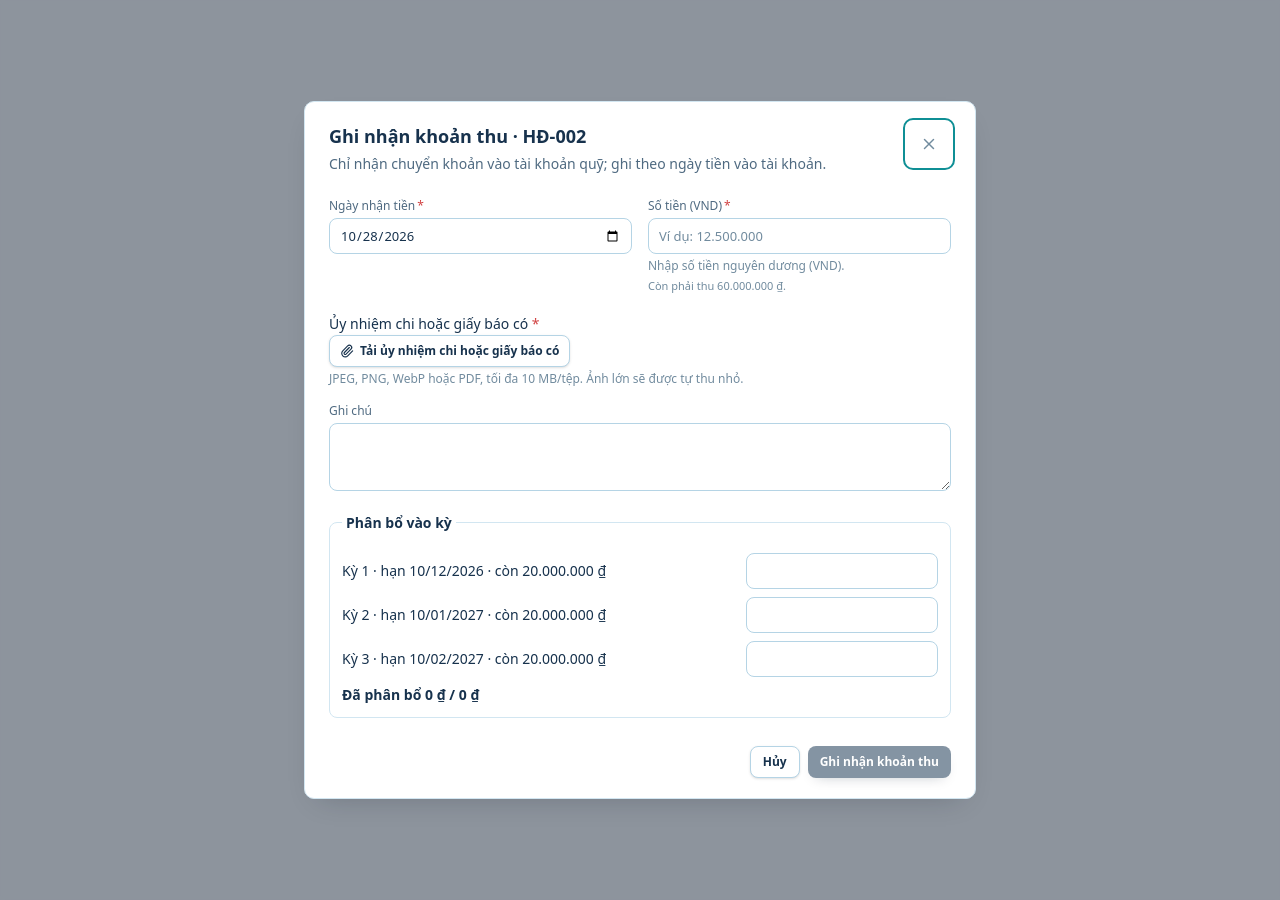
Test case: F-S3 components › spreads a receipt earliest due first and flags an edited period that gets too much (AC-F3.8)
The width and height of the screenshot is (1280, 900).
Type "30.000.000" into the field labelled "Số tiền (VND)*" at (800, 236), box left=648, top=218, right=951, bottom=254
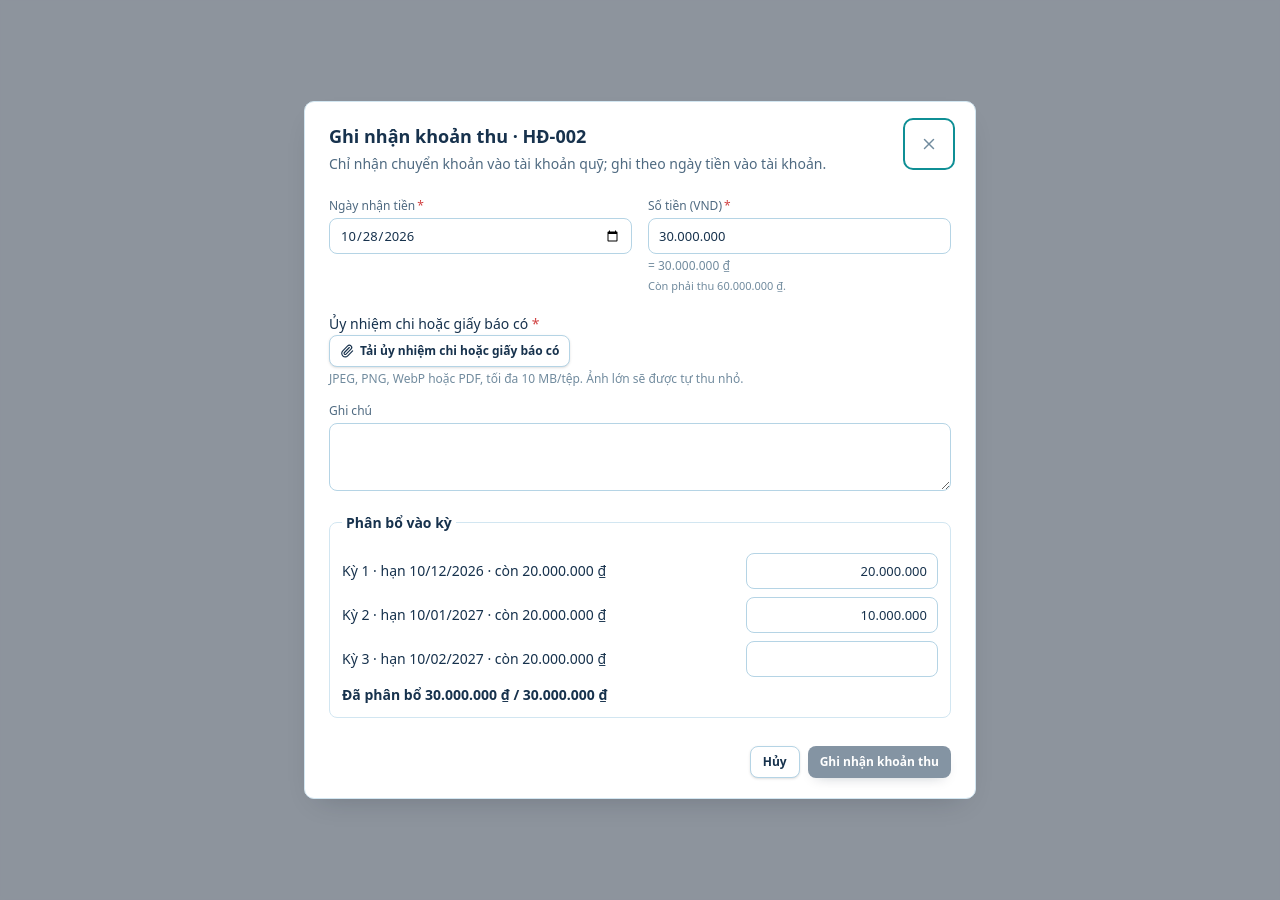
Now the field labelled "Kỳ 1 · hạn 10/12/2026 · còn 20.000.000 ₫" holds "20.000.000"
Now the field labelled "Kỳ 2 · hạn 10/01/2027 · còn 20.000.000 ₫" holds "10.000.000", box left=746, top=597, right=938, bottom=633
Now the message reads "Đã phân bổ 30.000.000 ₫ / 30.000.000 ₫", box left=342, top=685, right=608, bottom=704
Replace the text in the field labelled "Kỳ 1 · hạn 10/12/2026 · còn 20.000.000 ₫" with "25.000.000" at (842, 571), box left=746, top=553, right=938, bottom=589
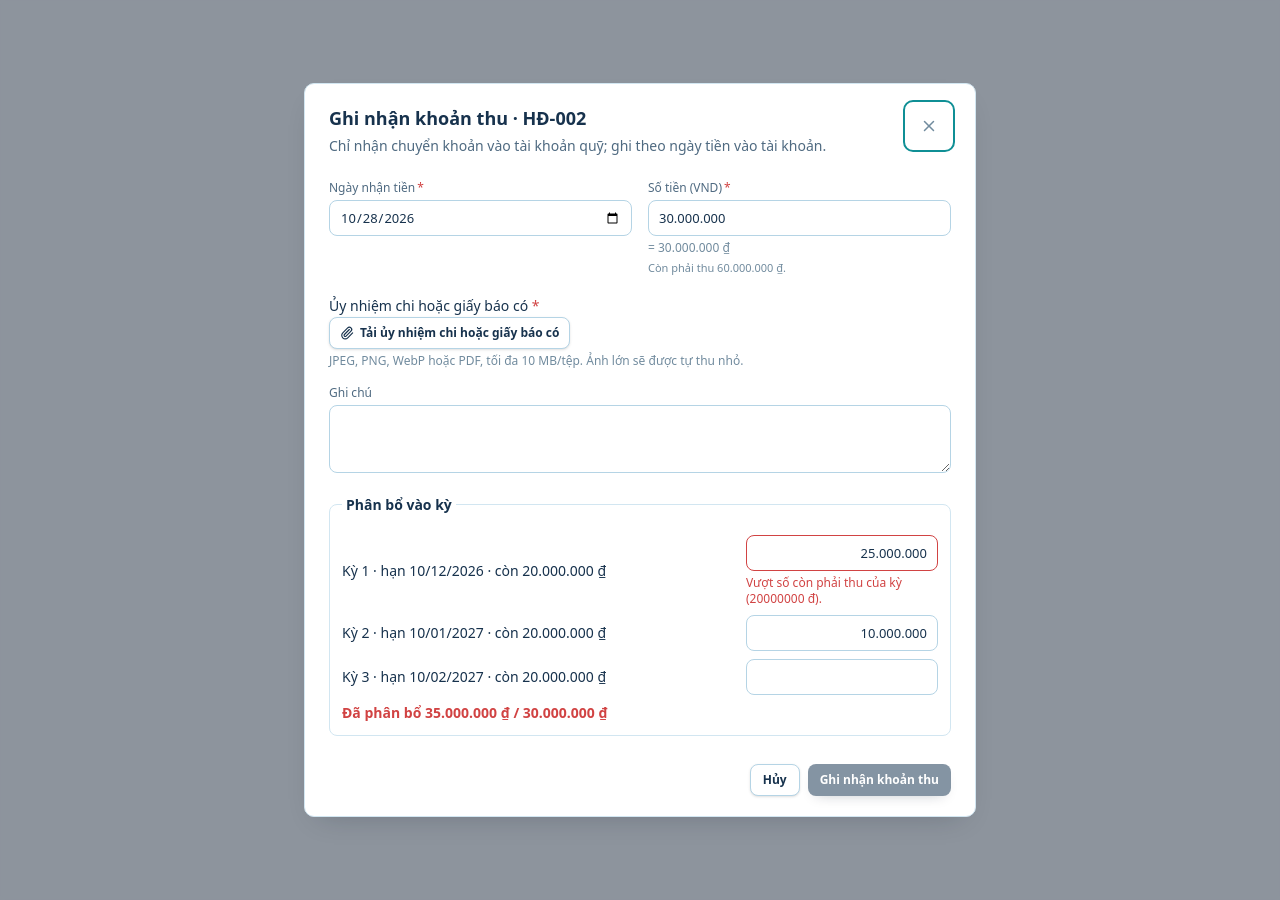
Expected: the button "Ghi nhận khoản thu" is disabled, left=808, top=764, right=951, bottom=796
Now the text "Vượt số còn phải thu của kỳ (20000000 đ)." is shown, box left=746, top=574, right=902, bottom=607
